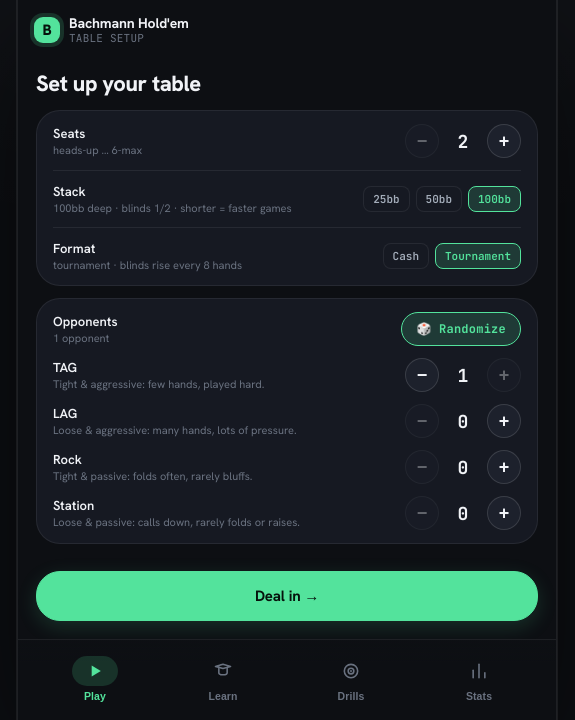
Test: App — top-level navigation › opens a lesson via the sticky Resume CTA
Click the button with test id "tab-learn" at (223, 678), box x1=160 y1=648 x2=286 y2=708
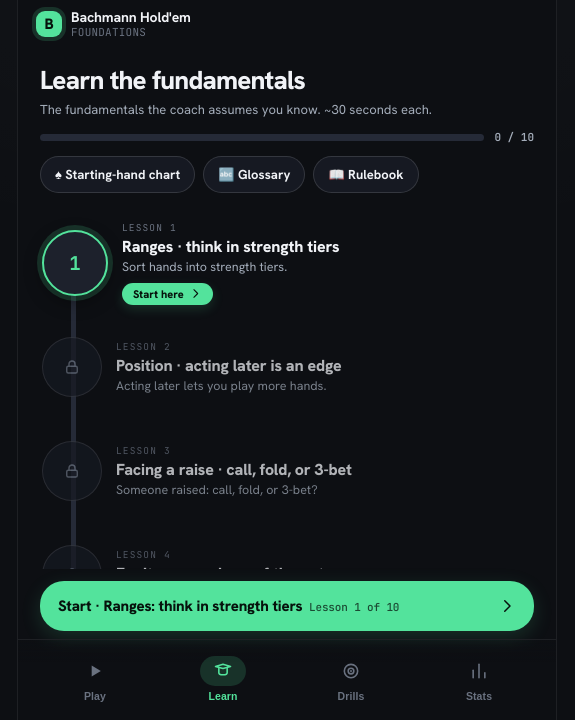
Click the button with test id "resume-cta" at (287, 606), box x1=40 y1=581 x2=534 y2=631
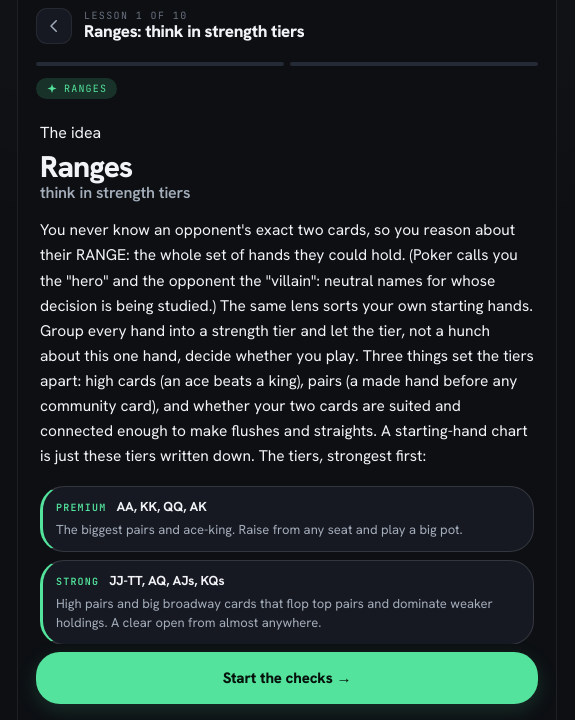
Expected: the element with test id "lesson-player" is shown
